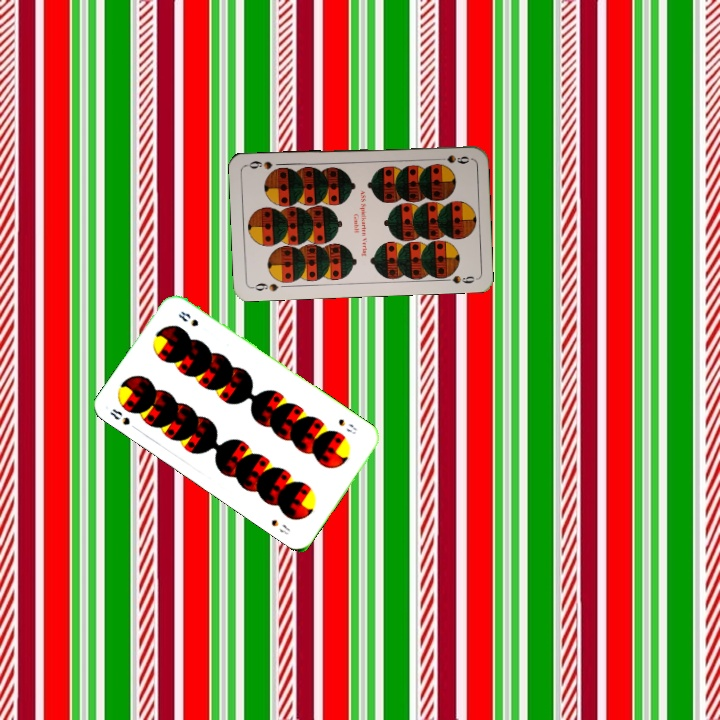S8: (106, 405, 141, 433), (334, 414, 360, 437)
S9: (432, 151, 471, 166), (248, 279, 281, 294)
